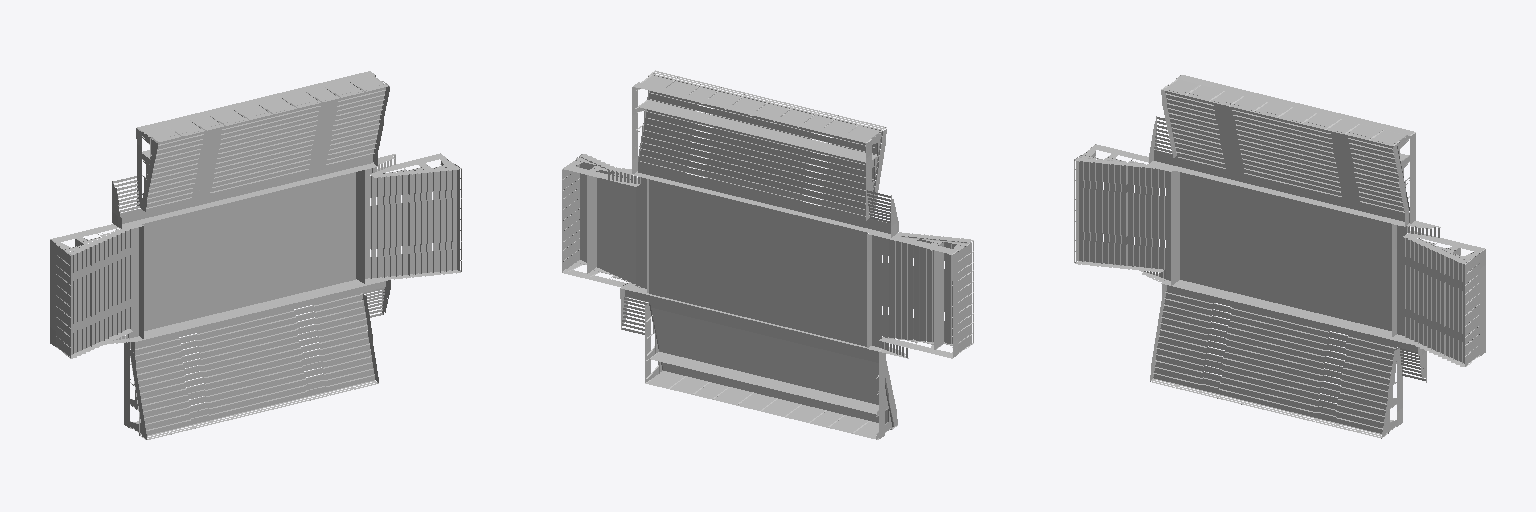
3 views of the same model, side by side, from view 1: azimuth 30°, elevation 25°; view 2: azimuth 150°, elevation 25°; view 3: azimuth 330°, elevation 25° (orthographic).
Parts seen in each view (by area): view 1: Tribuna_Ovest, Tribuna_Est, Campo, Curva_Sud, Curva_Nord; view 2: Tribuna_Est, Campo, Tribuna_Ovest, Curva_Nord, Curva_Sud; view 3: Tribuna_Ovest, Tribuna_Est, Campo, Curva_Nord, Curva_Sud.
Part boxes in pixels (bbox=[...]): Tribuna_Ovest: bbox=[124, 279, 390, 439]; Tribuna_Est: bbox=[112, 71, 389, 228]; Campo: bbox=[142, 172, 355, 330]; Curva_Sud: bbox=[356, 153, 461, 283]; Curva_Nord: bbox=[50, 224, 143, 358]; Tribuna_Est: bbox=[632, 70, 898, 237]; Campo: bbox=[649, 179, 867, 346]; Tribuna_Ovest: bbox=[620, 282, 897, 439]; Curva_Nord: bbox=[867, 232, 973, 358]; Curva_Sud: bbox=[562, 154, 649, 293]; Tribuna_Ovest: bbox=[1150, 280, 1426, 438]; Tribuna_Est: bbox=[1149, 75, 1415, 226]; Campo: bbox=[1180, 172, 1391, 330]; Curva_Nord: bbox=[1074, 144, 1179, 285]; Curva_Sud: bbox=[1392, 220, 1485, 366].
Bounding box in the file's own units: 71.66 × 51.69 × 6.7.